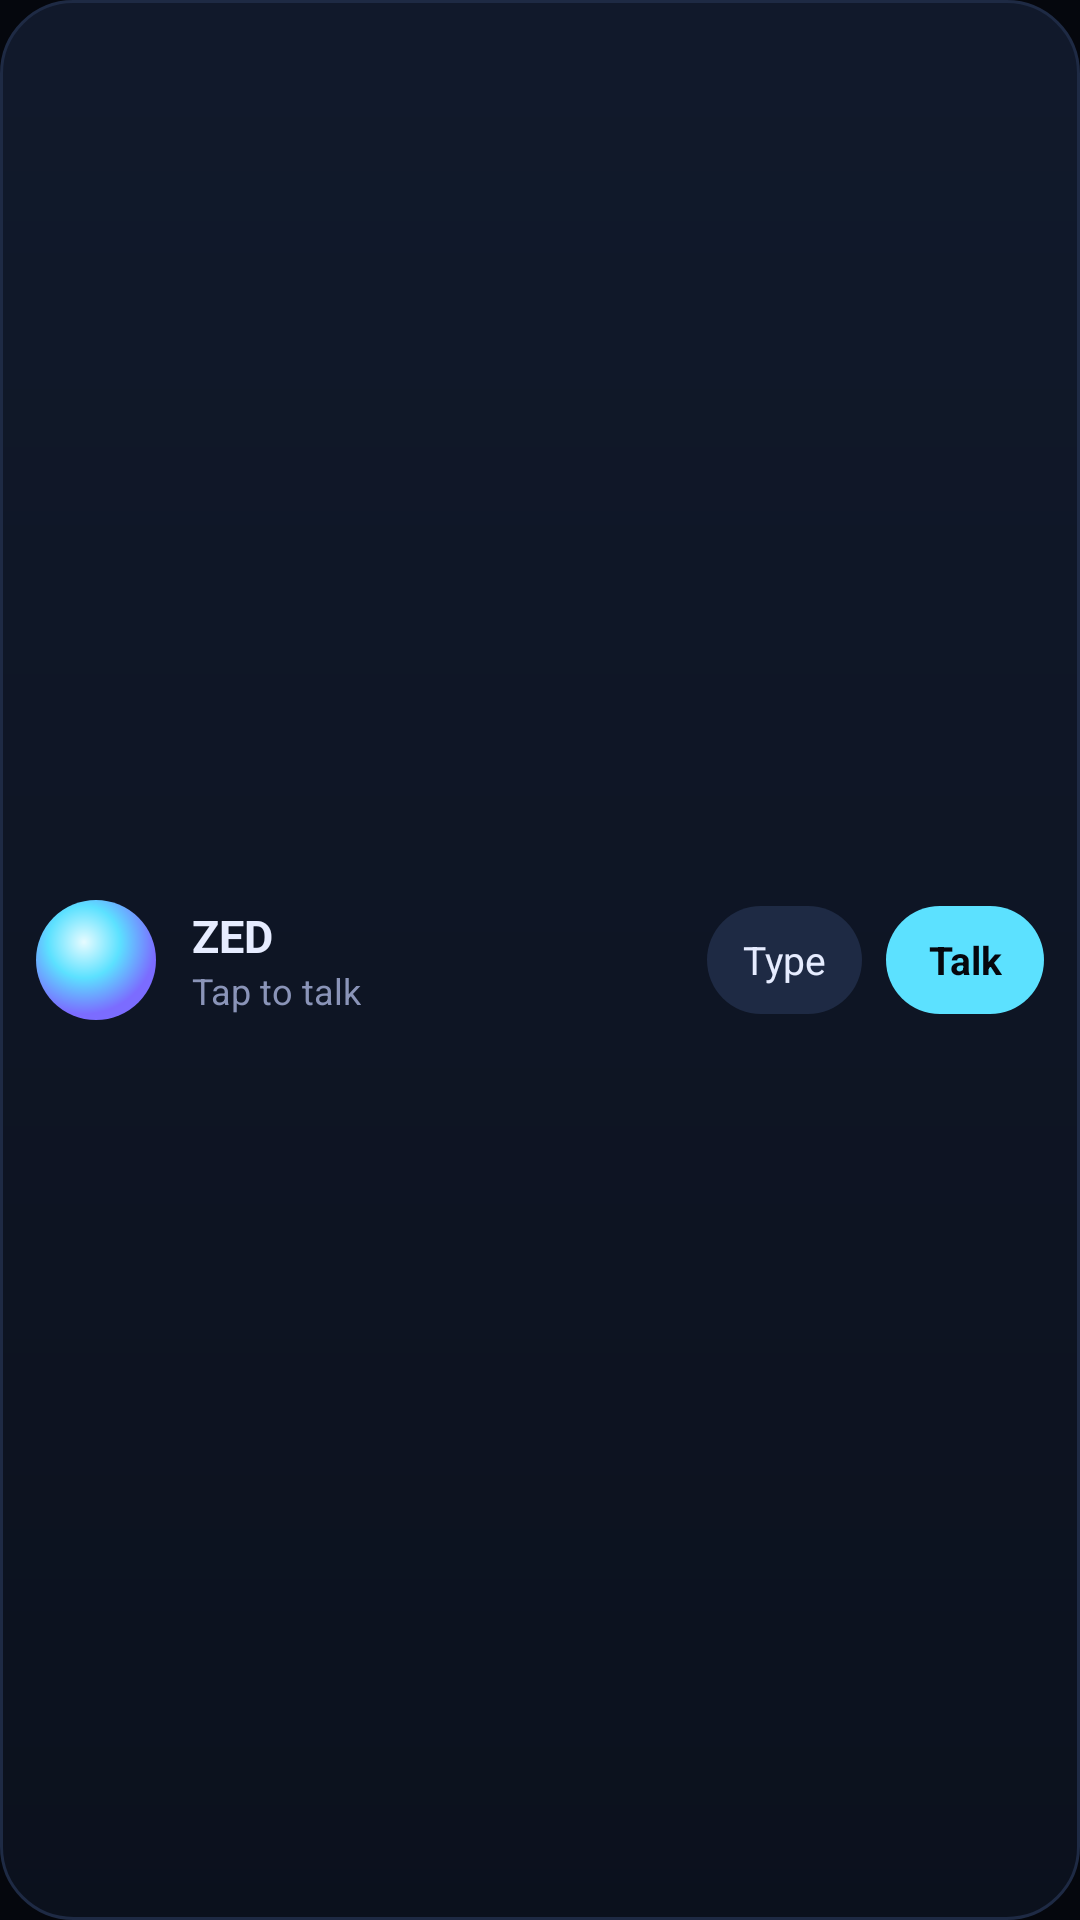

Named icons in this screenshot (1080w x 1920h) and their bounding boxes, (x1, y1, x2, y2):
widget orb: (36, 900, 156, 1020)
